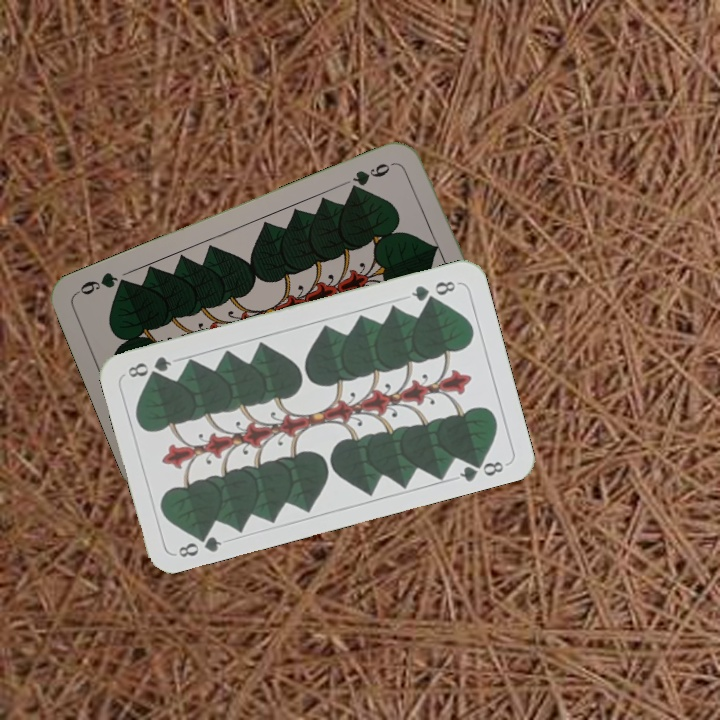G8: (174, 527, 225, 560), (407, 277, 461, 305)
G9: (346, 157, 399, 195)
